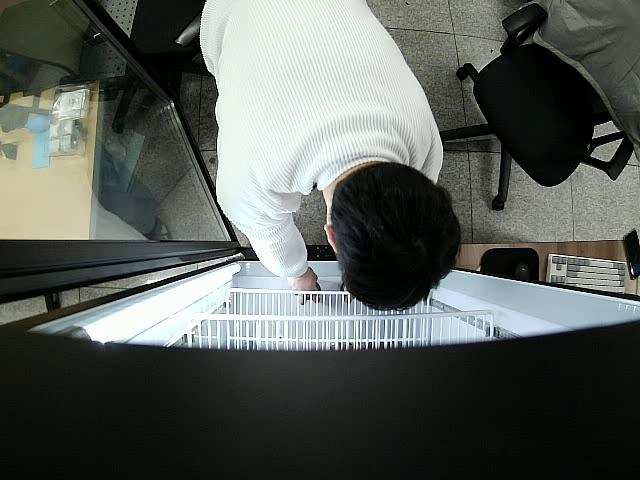00_hand: (289, 271, 321, 305)
